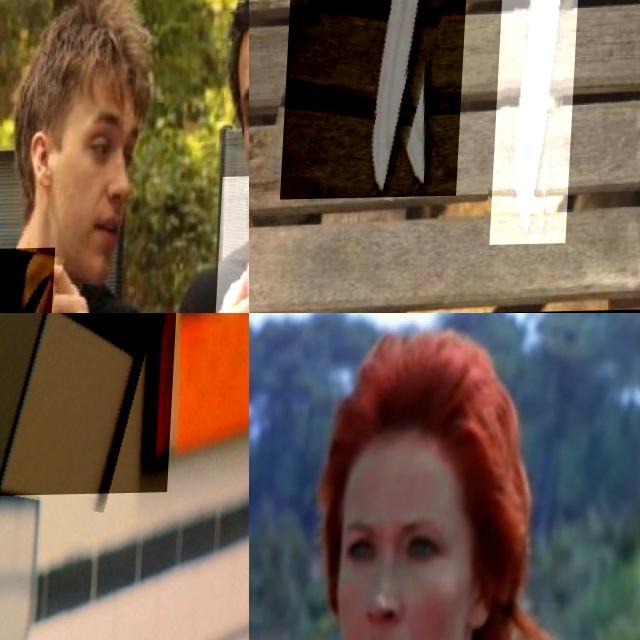-: (285, 0, 478, 204), (495, 0, 586, 246), (216, 177, 249, 313)
gun-knife-thesis - v11 Yolov5 augmented: (0, 313, 226, 528)
